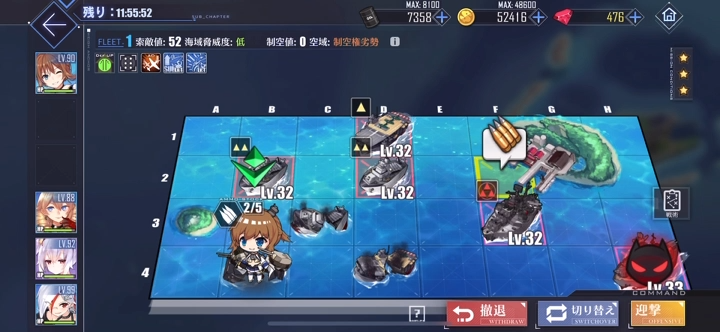boss: (611, 231, 684, 289)
lv3: (477, 182, 540, 242)
